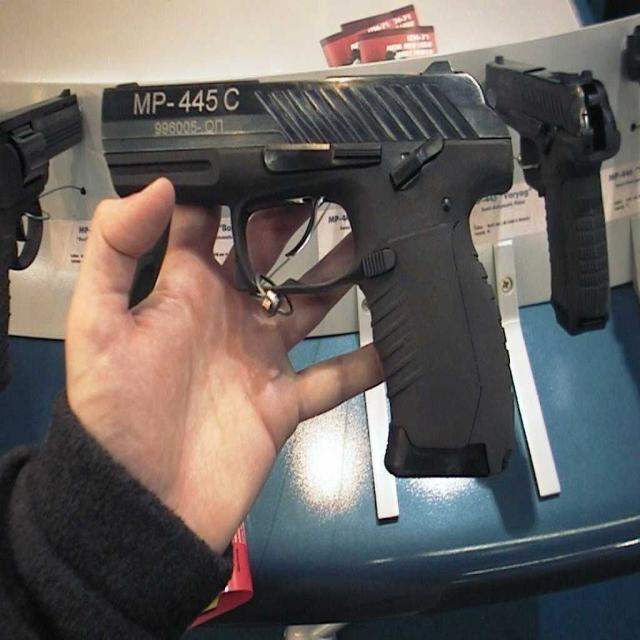Pistol: (99, 65, 524, 508)
